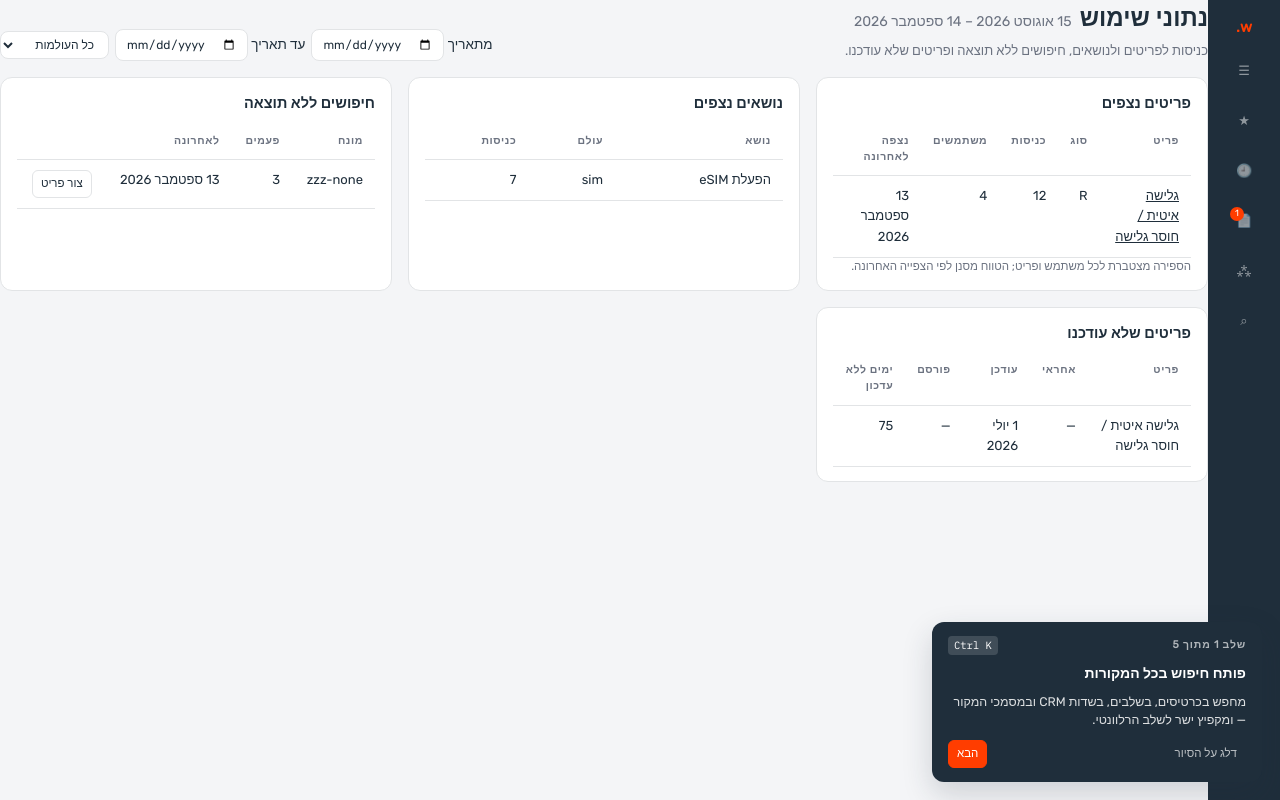
Test: analytics page › offers "צור פריט" on zero-result terms only with docs.create
The image size is (1280, 800).
Click the button "צור פריט" at (62, 184), box [32,170,92,198]
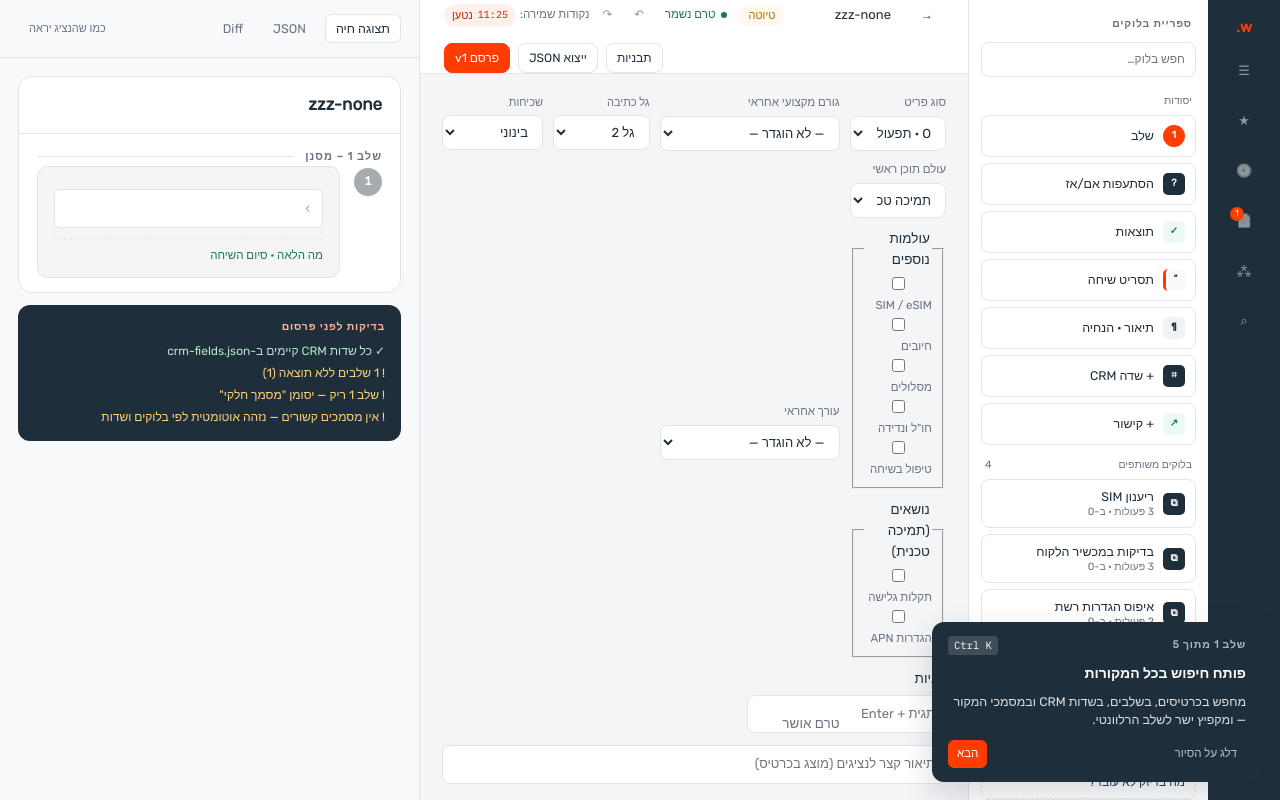
Check: the field named "שם פריט הידע" holds "zzz-none", box [796,0,898,30]
